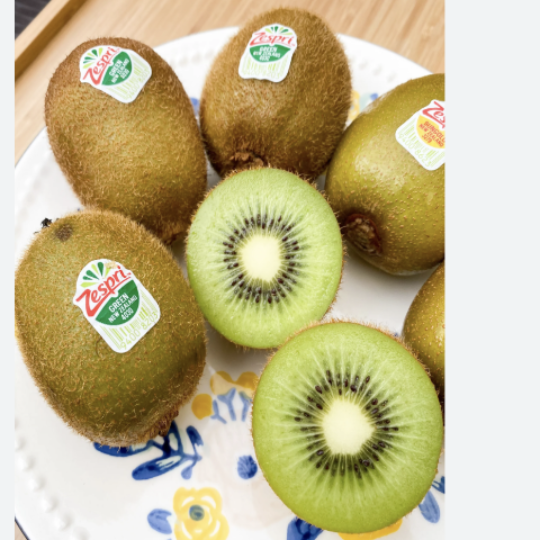kiwi: (5, 191, 230, 444), (45, 14, 204, 256), (189, 2, 368, 191)
